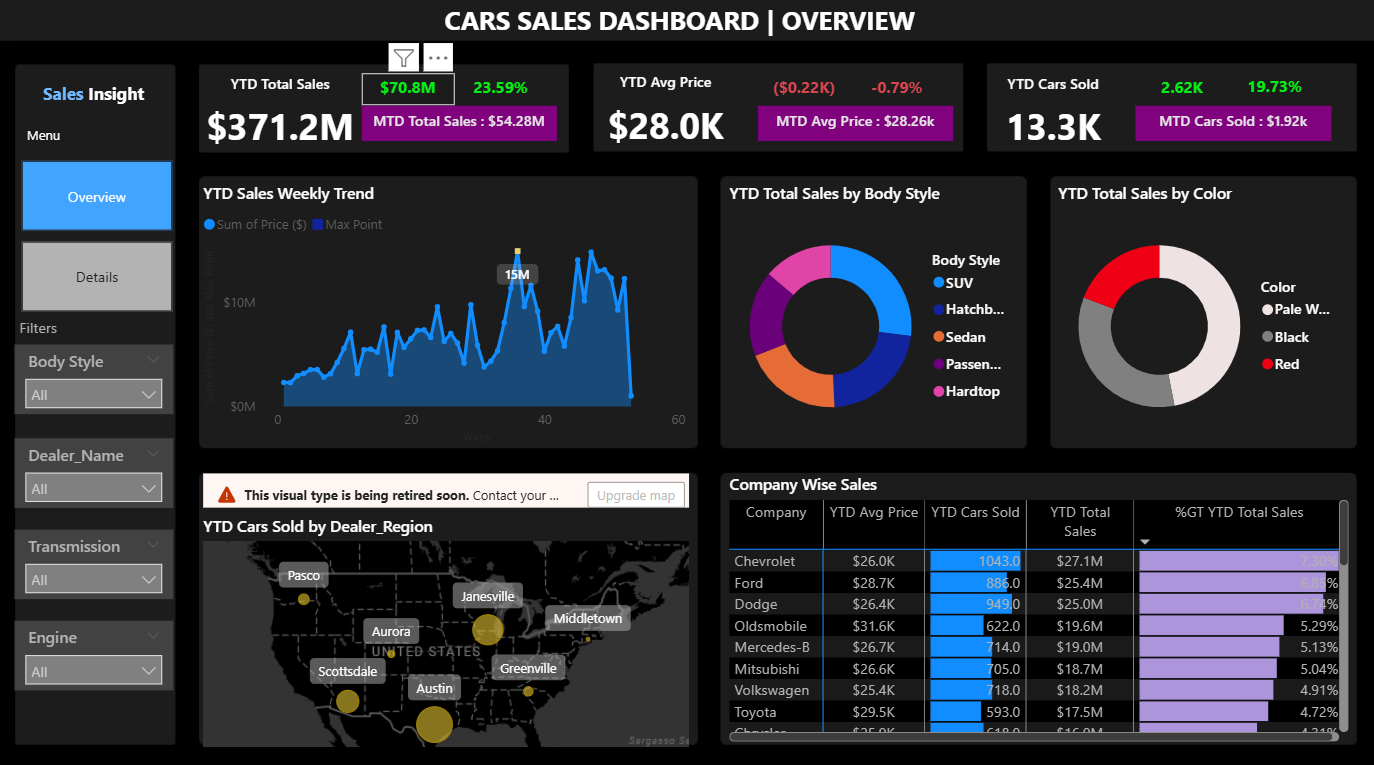

This screenshot's page, from the dashboard's own definition file:
{"tool":"powerbi","page":{"name":"Overview","canvas":[1280,720],"ordinal":0},"visuals":[{"type":"card","title":"YTD Total Sales","fields":{"Values":["car_data.YTD Total Sales"]},"box":[185.9,70.9,152.8,81.9],"z":0},{"type":"card","fields":{"Values":["car_data.Sales Difference"]},"box":[338.4,70.9,86,30.2],"z":1000},{"type":"card","fields":{"Values":["car_data.YOY Sales Growth"]},"box":[424.4,70.9,86,30.2],"z":2000},{"type":"card","fields":{"Values":["car_data.MTD KPI"]},"box":[338.4,101.2,181.4,32.6],"z":3000},{"type":"card","title":"YTD Avg Price","fields":{"Values":["car_data.YTD Avg Price"]},"box":[545.4,69.7,151.6,81.9],"z":4000},{"type":"card","fields":{"Values":["car_data.Avg Price Diff"]},"box":[707,70.9,86,30.2],"z":5000},{"type":"card","fields":{"Values":["car_data.YOY Avg Price Growth"]},"box":[793,70.9,86,30.2],"z":6000},{"type":"card","fields":{"Values":["car_data.MTD Avg Price KPI"]},"box":[707,101.2,181.4,32.6],"z":7000},{"type":"card","title":"YTD Cars Sold","fields":{"Values":["car_data.YTD Cars Sold"]},"box":[906.1,70.9,151.6,81.9],"z":8000},{"type":"card","fields":{"Values":["car_data.Cars Sold Diff"]},"box":[1057.7,70.9,86.8,30.6],"z":9000},{"type":"card","fields":{"Values":["car_data.YOY Car Sold Growth"]},"box":[1144.5,69.7,86.8,30.6],"z":10000},{"type":"card","fields":{"Values":["car_data.MTD Cars Sold KPI"]},"box":[1057.7,101.5,182.2,33],"z":11000},{"type":"areaChart","title":"YTD Sales Weekly Trend","fields":{"Category":["Calender Table.Week"],"Y":["Sum(car_data.Price ($))","car_data.Max Point"]},"box":[186,172.1,461.6,248.8],"z":12000},{"type":"donutChart","fields":{"Category":["car_data.Body Style"],"Y":["car_data.YTD Total Sales"]},"box":[675.6,172.1,280.2,248.8],"z":13000},{"type":"donutChart","fields":{"Category":["car_data.Color"],"Y":["car_data.YTD Total Sales"]},"box":[981.4,172.1,280.2,248.8],"z":14000},{"type":"map","fields":{"Category":["car_data.Dealer_Region"],"Size":["car_data.YTD Cars Sold"]},"box":[186,443,461.6,254.7],"z":15000},{"type":"pivotTable","title":"Company Wise Sales","fields":{"Rows":["car_data.Company"],"Values":["car_data.YTD Avg Price","car_data.YTD Cars Sold","car_data.YTD Total Sales1","car_data.YTD Total Sales"]},"box":[675.6,443,586,254.7],"z":16000},{"type":"textbox","box":[410.5,0,468.6,47.7],"z":17000},{"type":"slicer","fields":{"Values":["car_data.Body Style"]},"box":[15.1,323.3,147.7,65.1],"z":18000},{"type":"slicer","fields":{"Values":["car_data.Dealer_Name"]},"box":[15.1,410.5,147.7,65.1],"z":19000},{"type":"slicer","fields":{"Values":["car_data.Transmission"]},"box":[15.1,495.4,147.7,65.1],"z":20000},{"type":"slicer","fields":{"Values":["car_data.Engine"]},"box":[15.1,580.2,147.7,65.1],"z":21000},{"type":"textbox","box":[15.1,293,48.8,30.2],"z":22000},{"type":"textbox","box":[15.1,73.3,147.7,44.2],"z":22001},{"type":"textbox","box":[22.1,114,67.4,38.4],"z":22002},{"type":"pageNavigator","box":[22.1,152.3,140.7,140.7],"z":22003}]}

Visuals, with their boxes on the page's 1280x720 design canvas (x1, y1, x2, y2). These are canvas units, not pixel positions in the 1374x765 screenshot, which may show the page scaled, cropped or inside an application window:
"YTD Total Sales" card: 186:71:339:153
card - car_data.Sales Difference: 338:71:424:101
card - car_data.YOY Sales Growth: 424:71:510:101
card - car_data.MTD KPI: 338:101:520:134
"YTD Avg Price" card: 545:70:697:152
card - car_data.Avg Price Diff: 707:71:793:101
card - car_data.YOY Avg Price Growth: 793:71:879:101
card - car_data.MTD Avg Price KPI: 707:101:888:134
"YTD Cars Sold" card: 906:71:1058:153
card - car_data.Cars Sold Diff: 1058:71:1144:102
card - car_data.YOY Car Sold Growth: 1144:70:1231:100
card - car_data.MTD Cars Sold KPI: 1058:102:1240:134
"YTD Sales Weekly Trend" areaChart: 186:172:648:421
donutChart - car_data.Body Style x car_data.YTD Total Sales: 676:172:956:421
donutChart - car_data.Color x car_data.YTD Total Sales: 981:172:1262:421
map - car_data.Dealer_Region x car_data.YTD Cars Sold: 186:443:648:698
"Company Wise Sales" pivotTable: 676:443:1262:698
textbox: 410:0:879:48
slicer - car_data.Body Style: 15:323:163:388
slicer - car_data.Dealer_Name: 15:410:163:476
slicer - car_data.Transmission: 15:495:163:560
slicer - car_data.Engine: 15:580:163:645
textbox: 15:293:64:323
textbox: 15:73:163:118
textbox: 22:114:90:152
pageNavigator: 22:152:163:293
